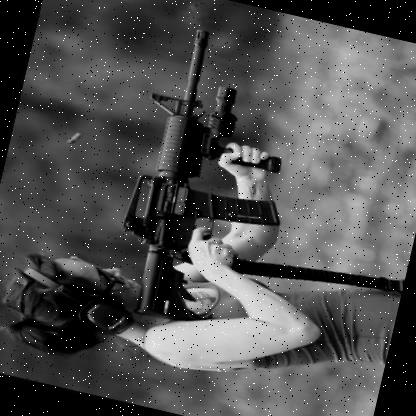rifle: (104, 14, 321, 345)
